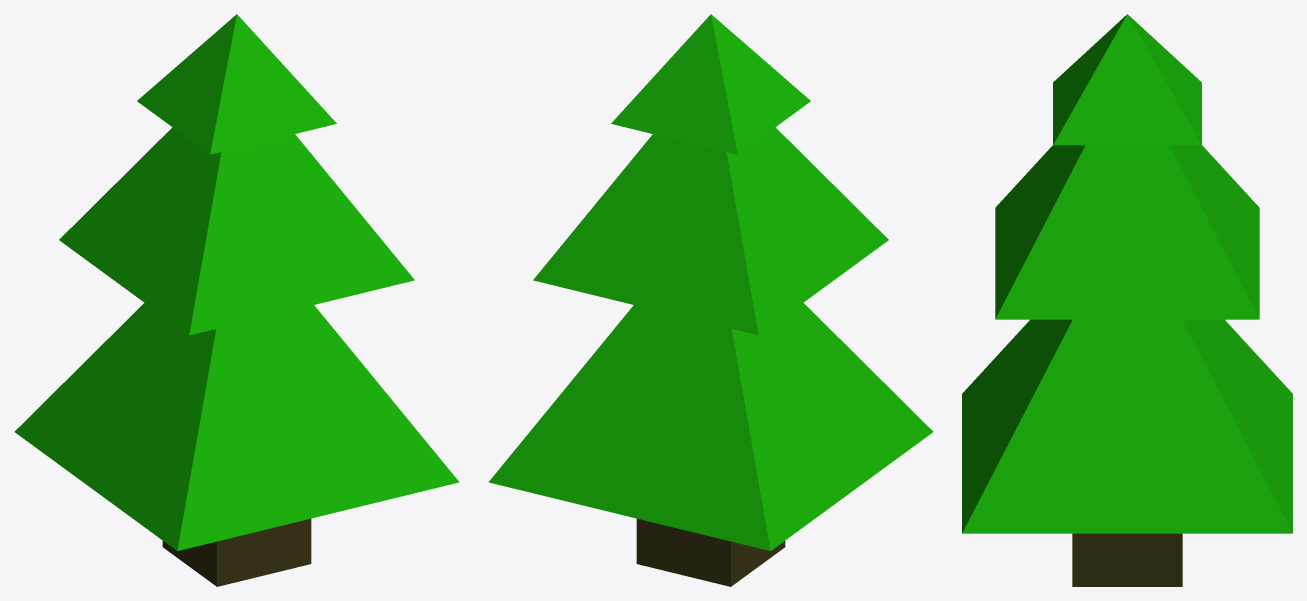
Rendered from tree.gltf.
3 views of the same model, side by side, from view 1: azimuth 30°, elevation 25°; view 2: azimuth 150°, elevation 25°; view 3: azimuth 270°, elevation 25° (orthographic).
Visible parts, largest first — view 1: tree; view 2: tree; view 3: tree.
Boxes of the visible parts, x1,y1,x2,y2 form: tree: [14, 14, 458, 586]; tree: [489, 14, 933, 586]; tree: [962, 14, 1292, 586].
Bounding box in the file's own units: 3 × 5.5 × 3.
